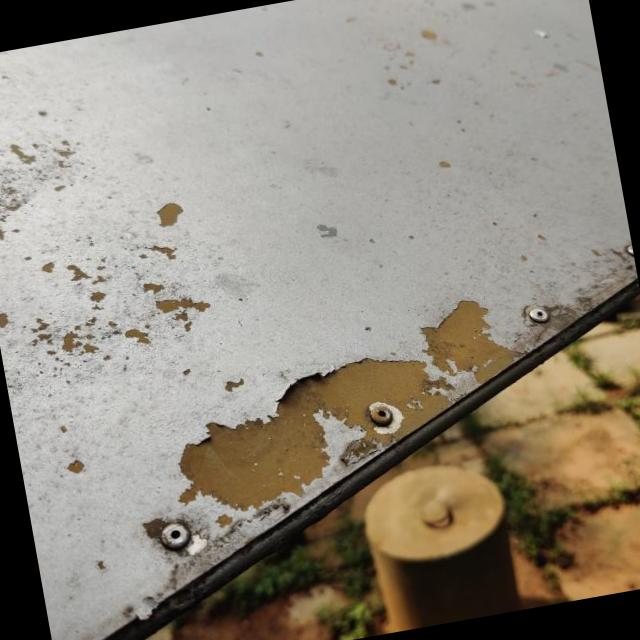Paint-off: (179, 301, 519, 511)
